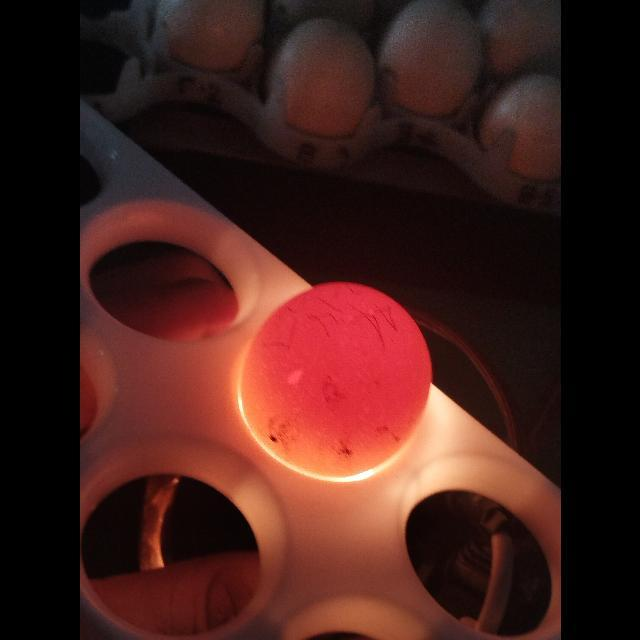Infertile: (234, 278, 436, 480)
